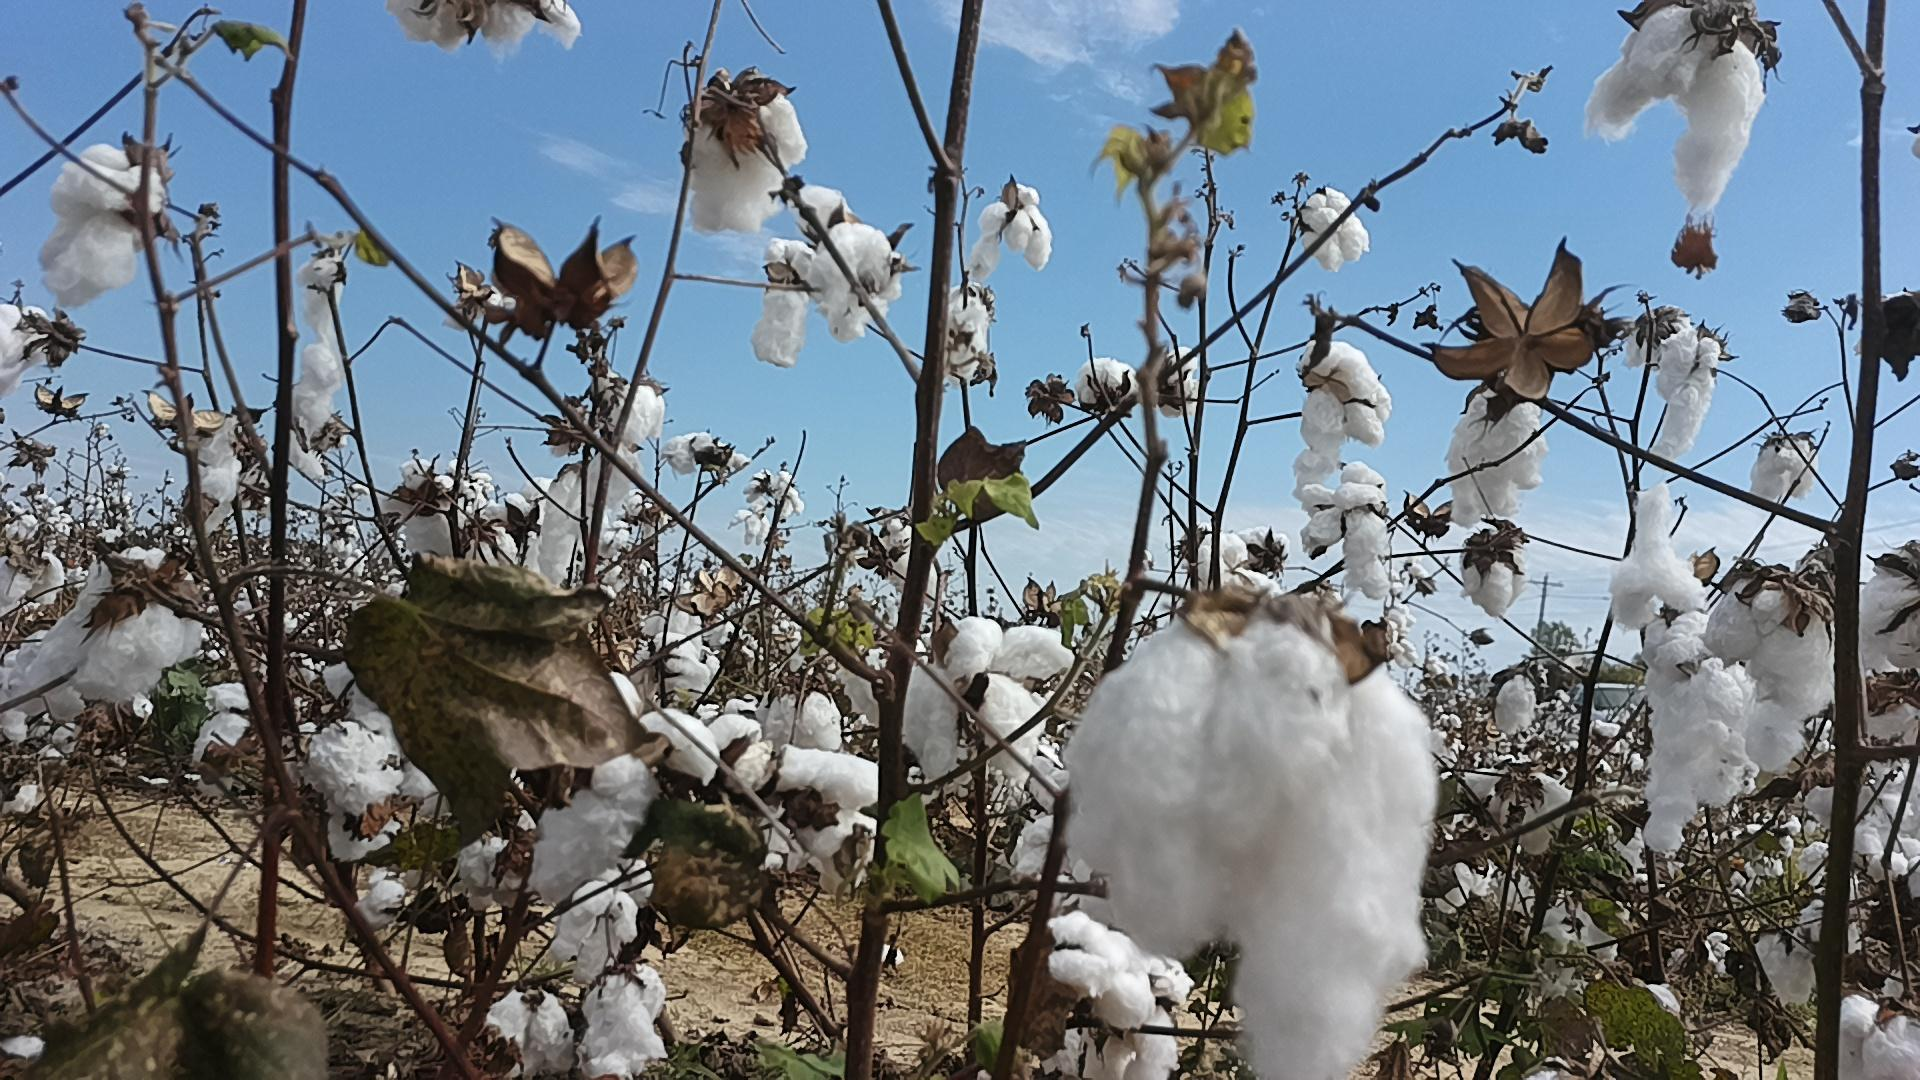cotton_ready: (1064, 618, 1438, 1080), (1590, 3, 1768, 216), (528, 706, 722, 900), (842, 621, 1071, 782), (0, 546, 210, 703), (1643, 609, 1756, 856), (1706, 576, 1840, 773), (752, 225, 910, 366), (40, 140, 170, 305), (682, 93, 808, 235), (1291, 333, 1396, 499), (1051, 908, 1188, 1019), (1446, 380, 1548, 529), (766, 741, 883, 866), (1611, 485, 1706, 632), (1298, 463, 1397, 601), (541, 448, 636, 584), (1444, 763, 1575, 855), (384, 0, 584, 55), (298, 715, 404, 817), (289, 257, 348, 437), (1650, 326, 1730, 457), (582, 963, 671, 1080), (377, 462, 469, 560), (969, 185, 1052, 284), (550, 881, 641, 971), (1859, 545, 1920, 678), (182, 411, 246, 537), (1838, 995, 1920, 1080), (1299, 185, 1371, 274), (1459, 534, 1531, 618), (1017, 811, 1097, 885), (632, 627, 713, 700), (1201, 527, 1289, 592), (589, 379, 667, 445), (1749, 432, 1820, 503), (943, 283, 992, 385), (0, 307, 58, 393), (1157, 343, 1204, 417), (1080, 357, 1138, 404)
